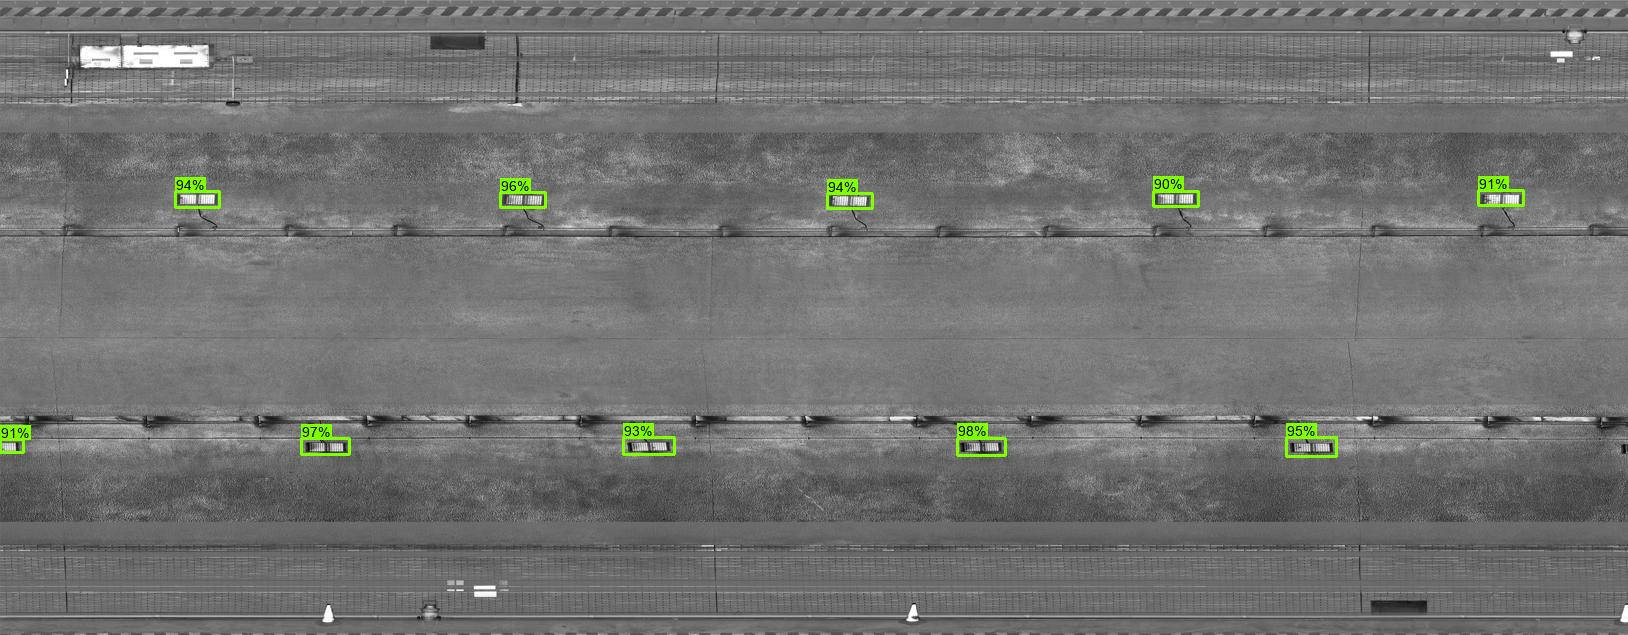light: (170, 190, 223, 211), (300, 438, 353, 459), (500, 190, 553, 211), (619, 436, 672, 457), (818, 192, 871, 213), (956, 438, 1009, 459), (1150, 190, 1203, 211), (1286, 439, 1339, 460), (1474, 187, 1527, 208), (1, 437, 26, 459)
